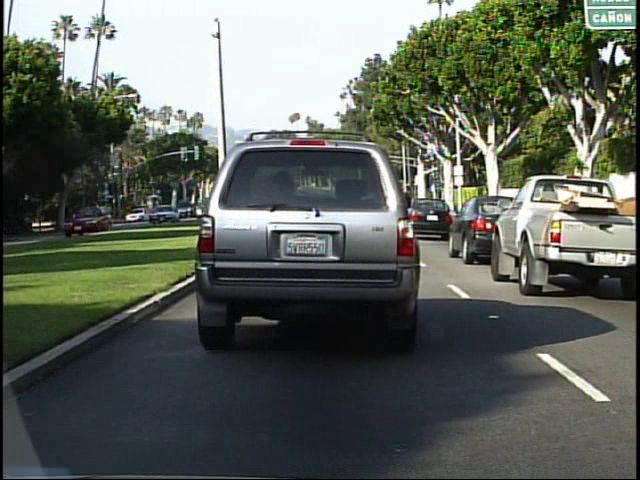person: (71, 207, 80, 226)
